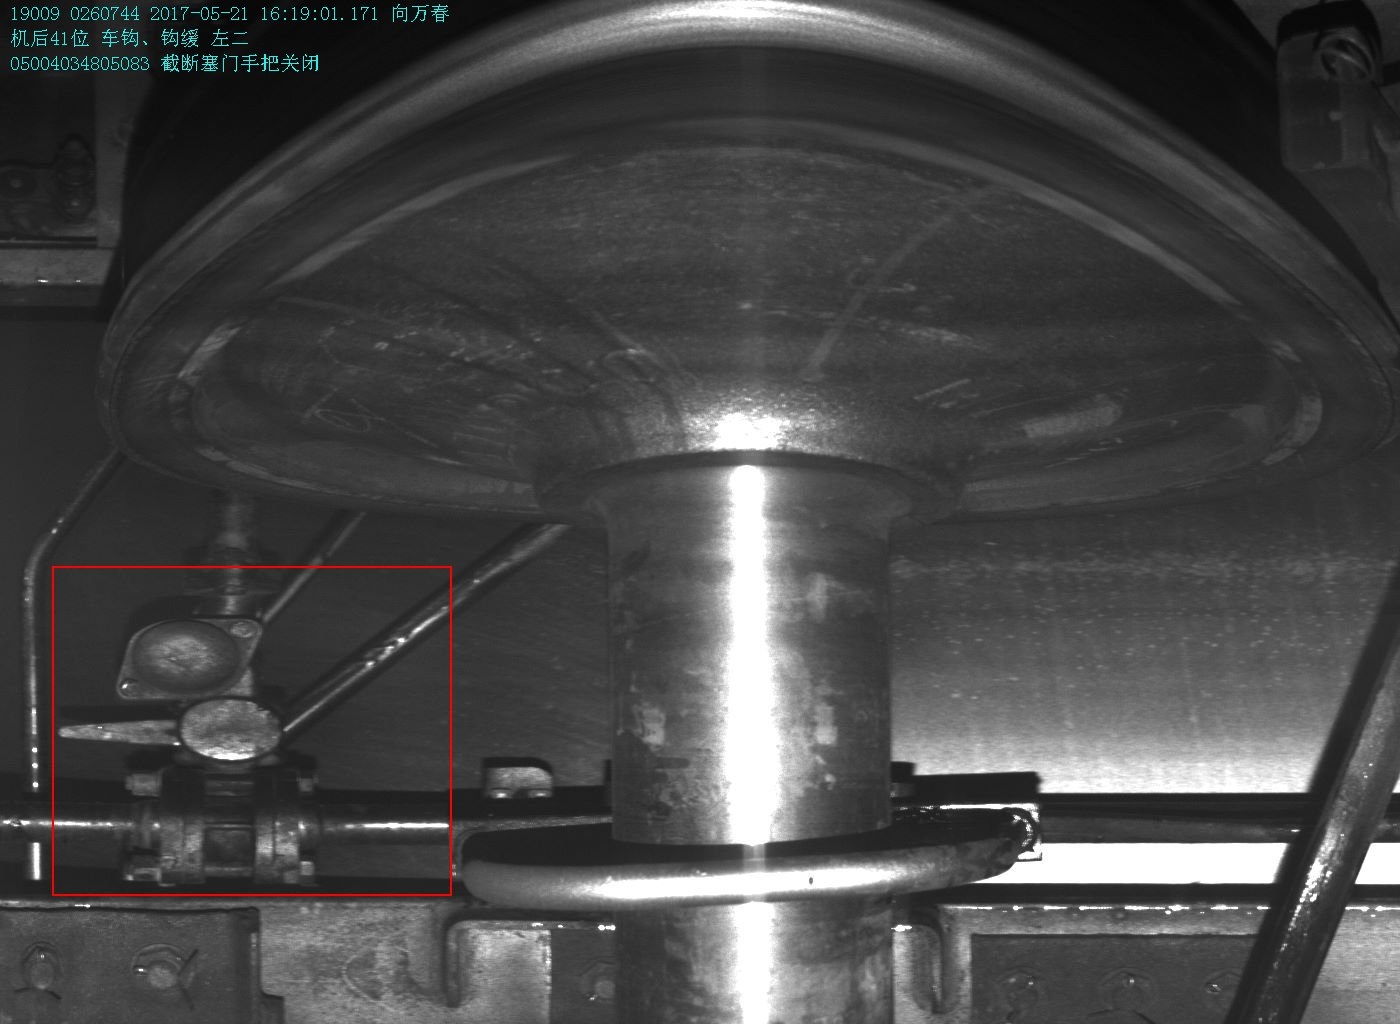truncated plug door handle: (57, 695, 283, 767)
